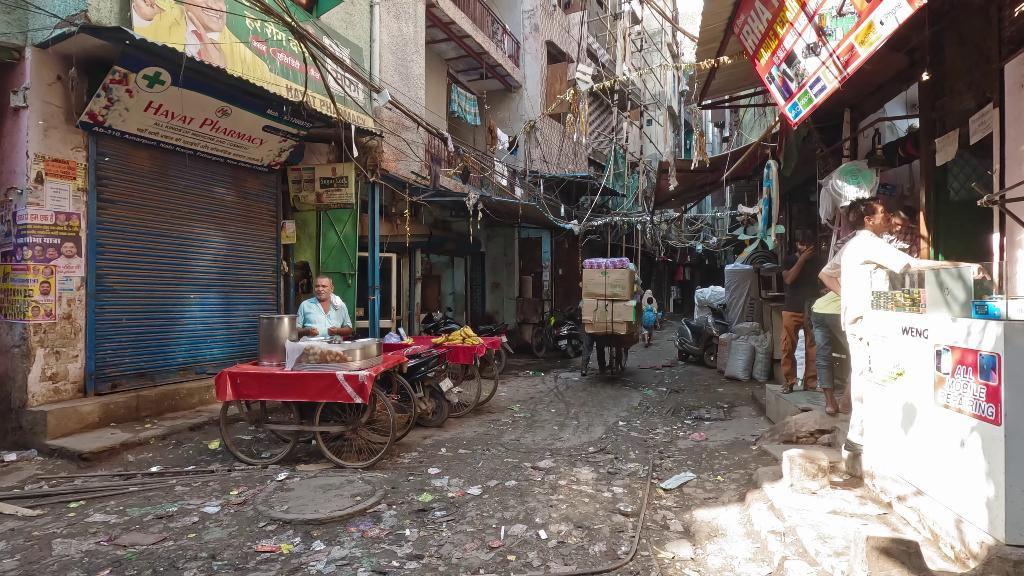garbage: (362, 527, 391, 539), (254, 542, 281, 554), (201, 438, 223, 450), (689, 430, 709, 442), (383, 332, 403, 344), (311, 539, 326, 553), (416, 492, 435, 503), (202, 505, 221, 515), (466, 487, 484, 496), (272, 472, 289, 480), (536, 529, 549, 539), (447, 490, 463, 498)
